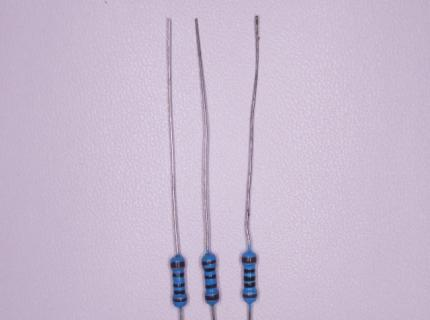Black band: (205, 283, 217, 289), (174, 289, 185, 295), (244, 268, 255, 274), (244, 276, 255, 282), (244, 282, 255, 288), (204, 267, 216, 272), (204, 274, 216, 279), (174, 283, 185, 288), (173, 273, 184, 278)
Brown band: (170, 261, 185, 268), (242, 256, 257, 263), (202, 259, 216, 266), (205, 294, 219, 300), (172, 297, 188, 302), (242, 293, 257, 298)
